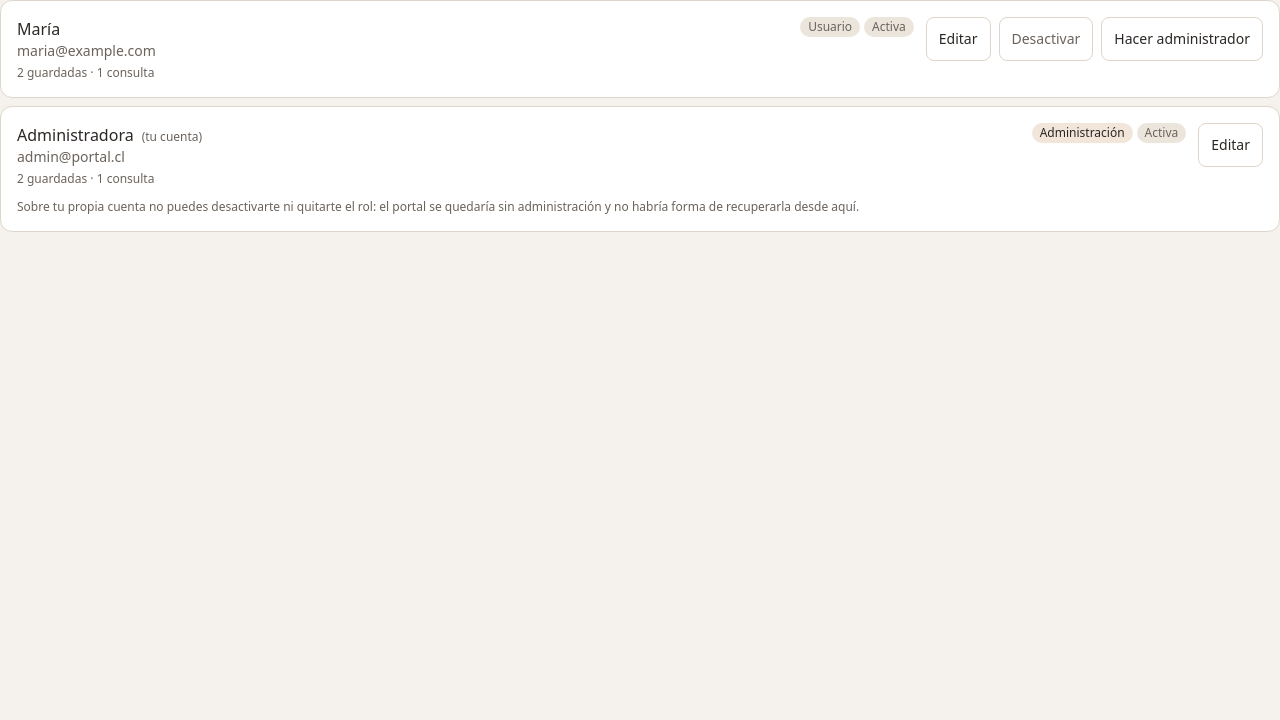
UserManager, sobre otra cuenta › pide confirmación antes de desactivar
The width and height of the screenshot is (1280, 720).
Click the button "Desactivar" at (1046, 39), box x1=998 y1=17 x2=1093 y2=61
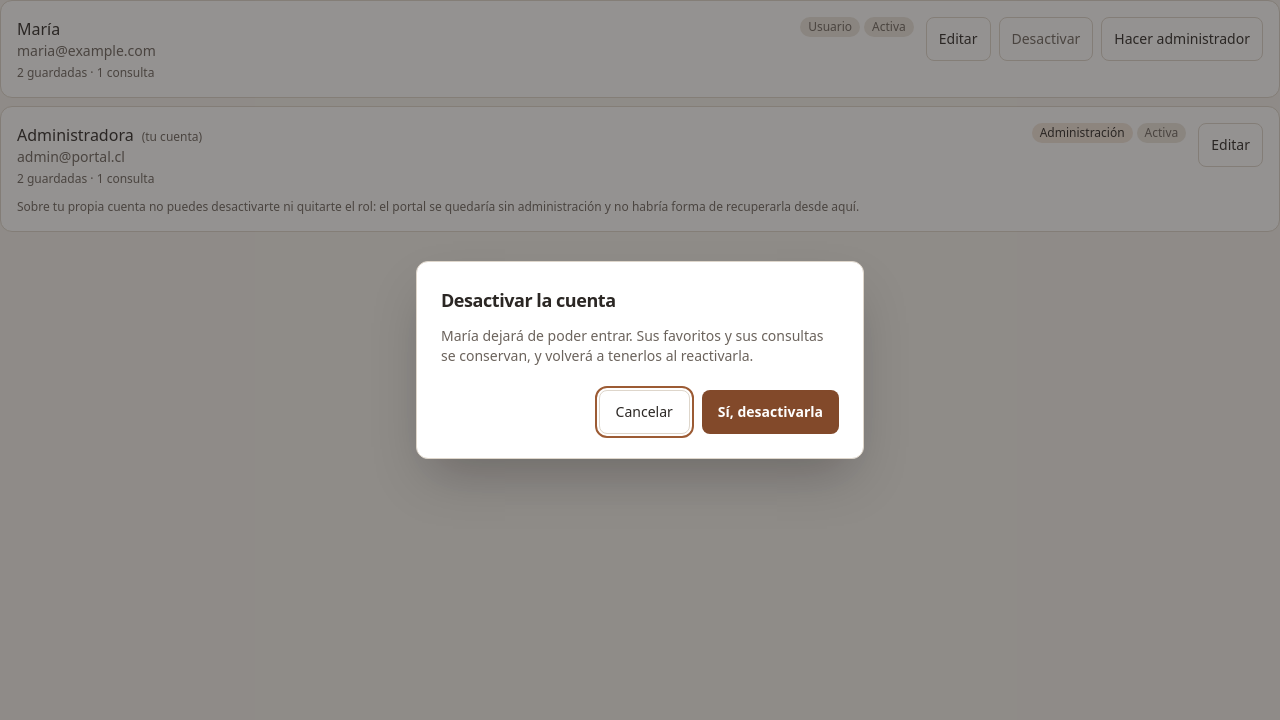
Expected: the dialog shows "dejará de poder entrar", x1=441 y1=326 x2=824 y2=365
